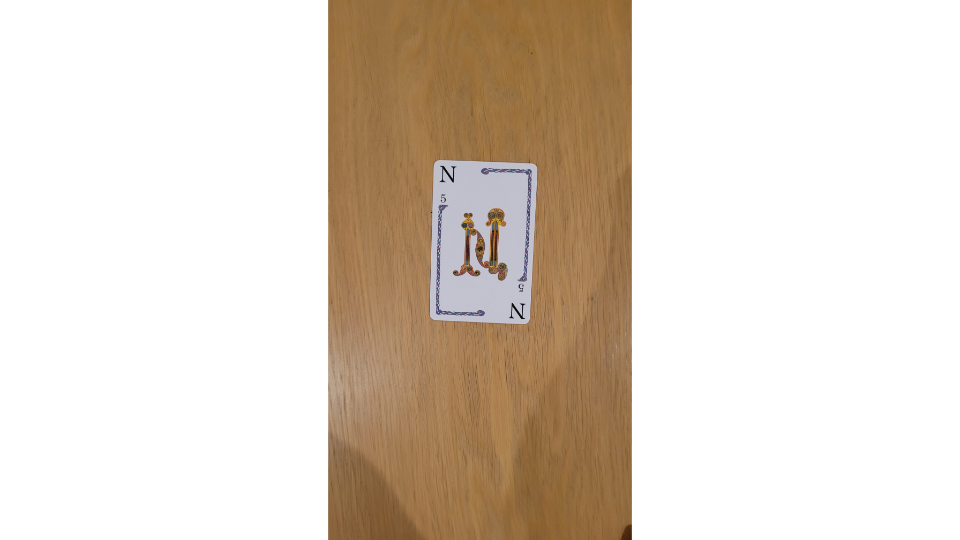N: (426, 154, 540, 328)
